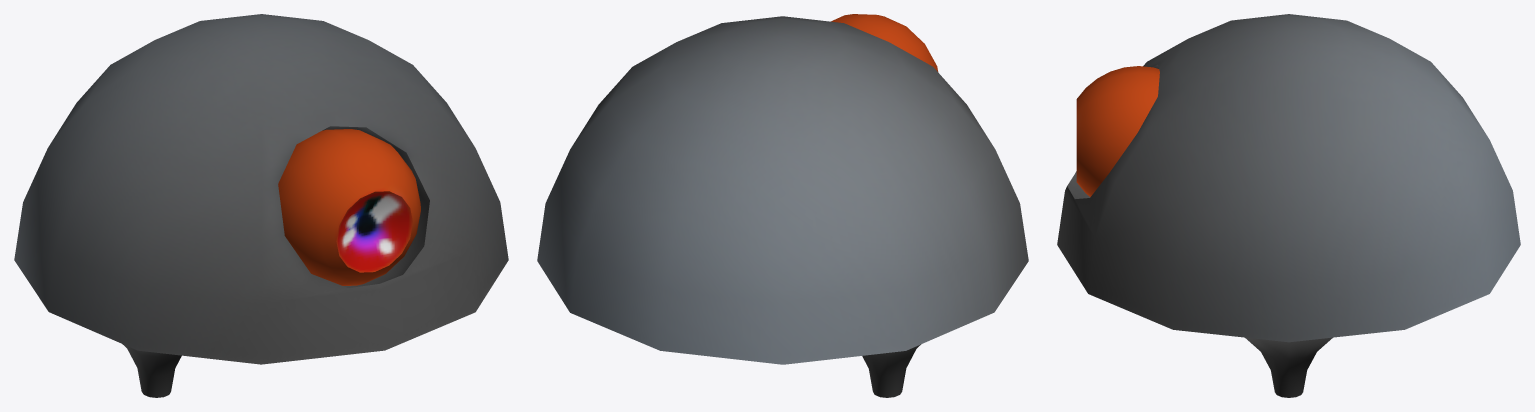
The model's file is One_Eye_01.fbx.
3 views of the same model, side by side, from view 1: azimuth 30°, elevation 25°; view 2: azimuth 150°, elevation 25°; view 3: azimuth 270°, elevation 25° (orthographic). The views are drawn at different scales.
Parts seen in each view (by area): view 1: One_Eye_01, Eye_01; view 2: One_Eye_01, Eye_01; view 3: One_Eye_01, Eye_01.
Part boxes in pixels (x1=…): One_Eye_01: x1=14, y1=14, x2=508, y2=397; Eye_01: x1=278, y1=129, x2=420, y2=285; One_Eye_01: x1=537, y1=16, x2=1028, y2=397; Eye_01: x1=831, y1=14, x2=938, y2=71; One_Eye_01: x1=1057, y1=14, x2=1520, y2=397; Eye_01: x1=1076, y1=66, x2=1159, y2=196.
Bounding box in the file's own units: 18 × 13.33 × 18.1.
